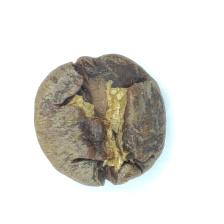NG: (45, 62, 145, 176)
